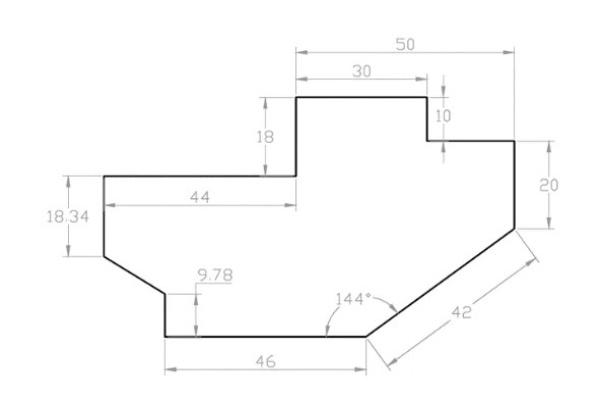dimensions: (36, 201, 96, 230), (528, 166, 569, 200), (195, 262, 239, 288), (243, 350, 290, 374), (387, 27, 423, 55), (180, 185, 219, 206), (447, 302, 483, 324), (346, 59, 380, 82), (431, 104, 459, 126), (252, 126, 282, 146)
